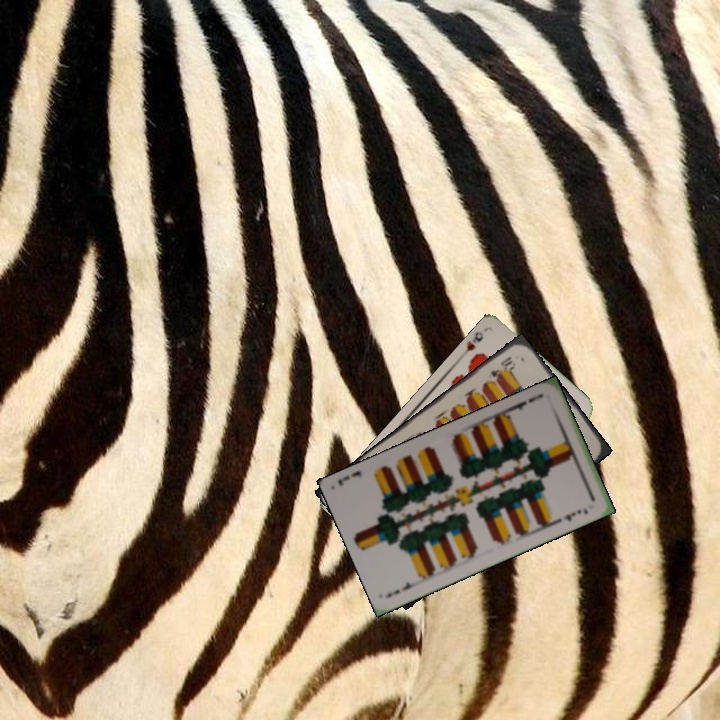E10: (486, 352, 518, 381)
E7: (507, 390, 545, 413), (384, 578, 423, 600)
H9: (459, 327, 486, 359)
